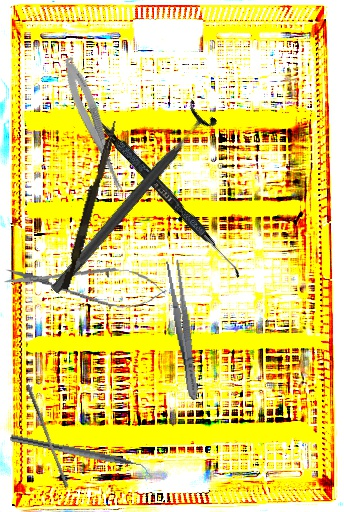Chopper: (7, 434, 156, 479)
Dressing Forceps: (163, 258, 203, 402)
Fixation Ring: (39, 98, 220, 303)
Micro Scissor: (56, 54, 135, 201), (1, 255, 169, 313)
Pusher: (61, 118, 118, 292), (21, 383, 73, 489)
Spatula Surgical: (80, 105, 248, 279)
